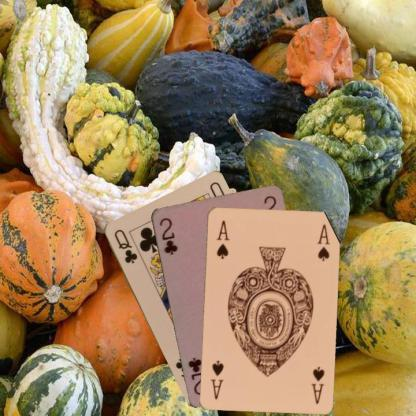2c: (156, 215, 178, 256)
As: (308, 364, 326, 404), (214, 217, 230, 260)
Qc: (111, 226, 139, 264)
